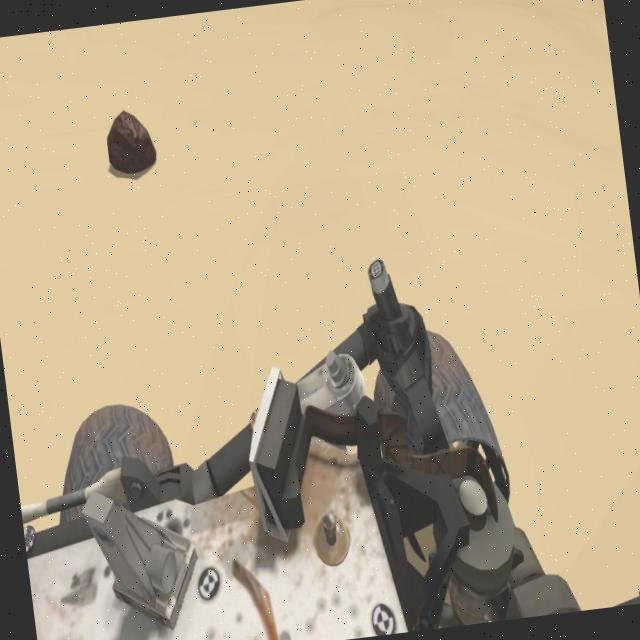rock: (103, 108, 158, 176)
